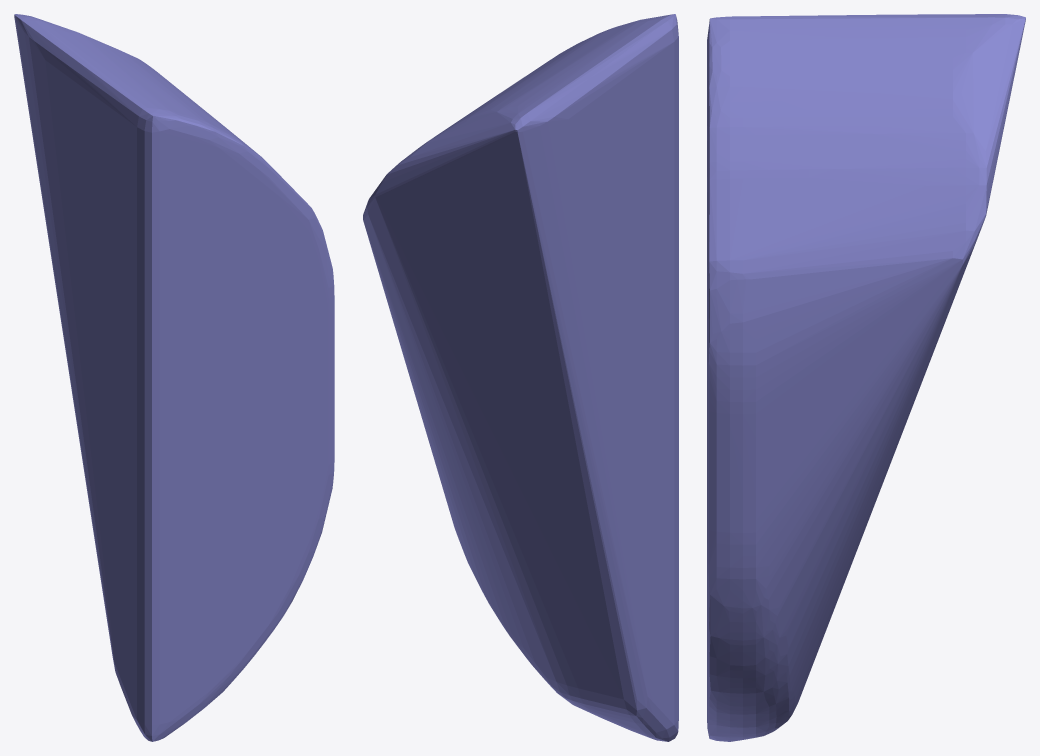
Rendered from right_th_distal_pst_part_12.obj.
The picture shows the model from 3 angles, left to right: view 1: azimuth 30°, elevation 25°; view 2: azimuth 150°, elevation 25°; view 3: azimuth 270°, elevation 25°; orthographic projection. The views are drawn at different scales.
Size of the model in its own units: 5.6 by 17.37 by 6.97.
